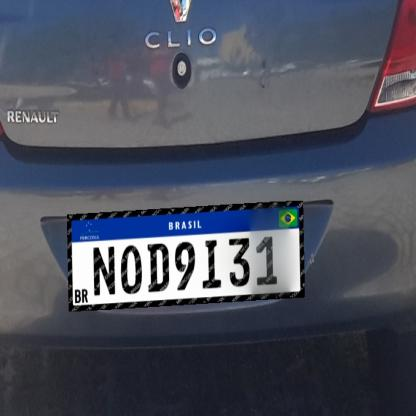PlacaM: (67, 201, 305, 311)
